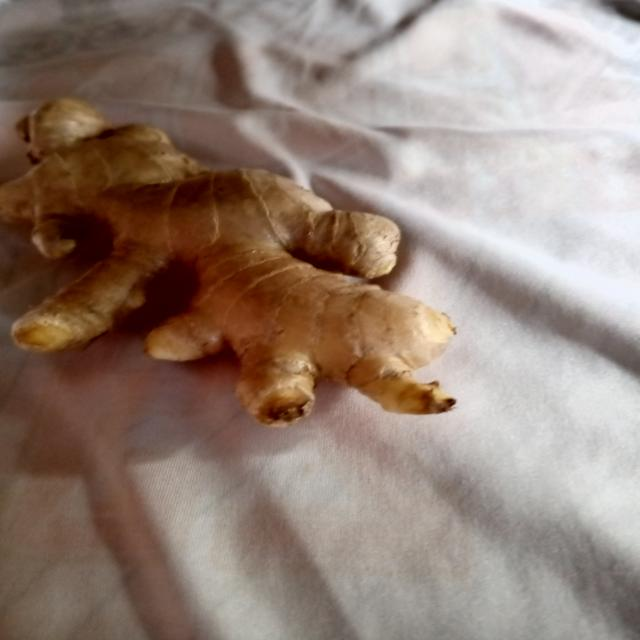ginger: (11, 85, 480, 463)
